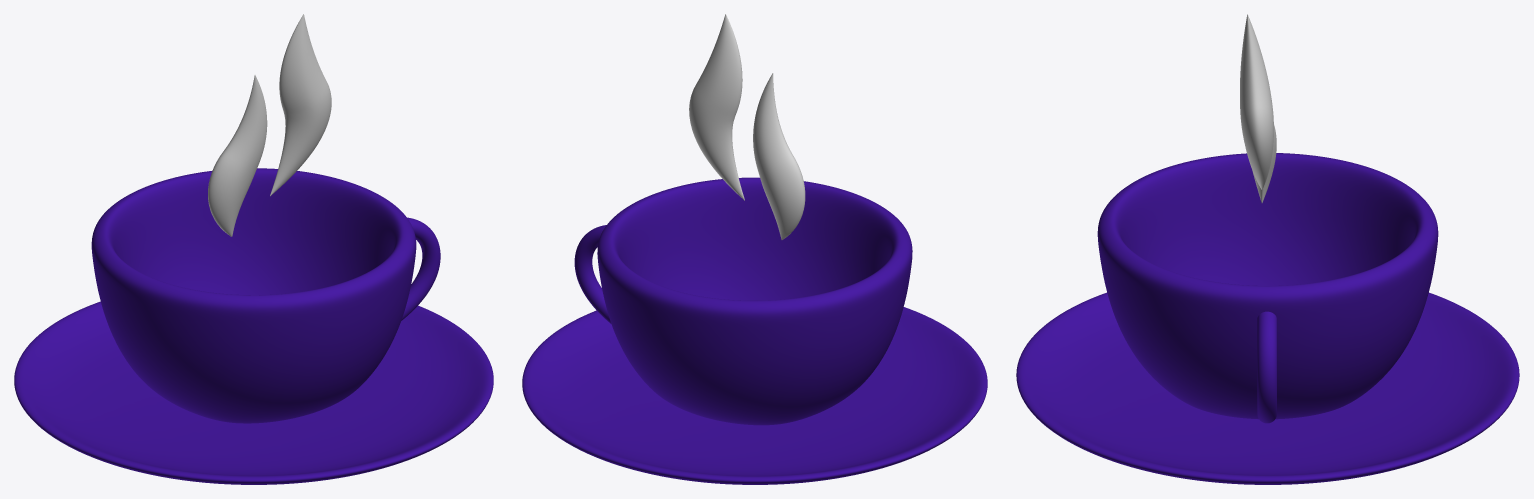
Rendered from tea-cup.glb.
3 renders of one model, left to right at view 1: azimuth 30°, elevation 25°; view 2: azimuth 150°, elevation 25°; view 3: azimuth 270°, elevation 25°, orthographic. The views are drawn at different scales.
Visible parts, largest first — view 1: Tea; view 2: Tea; view 3: Tea.
Part boxes in pixels (x1,y1,x2,y2): Tea: (14, 14, 493, 484); Tea: (522, 14, 987, 484); Tea: (1016, 14, 1519, 484).
Size of the model in its own units: 2.05 by 1.82 by 2.05.
